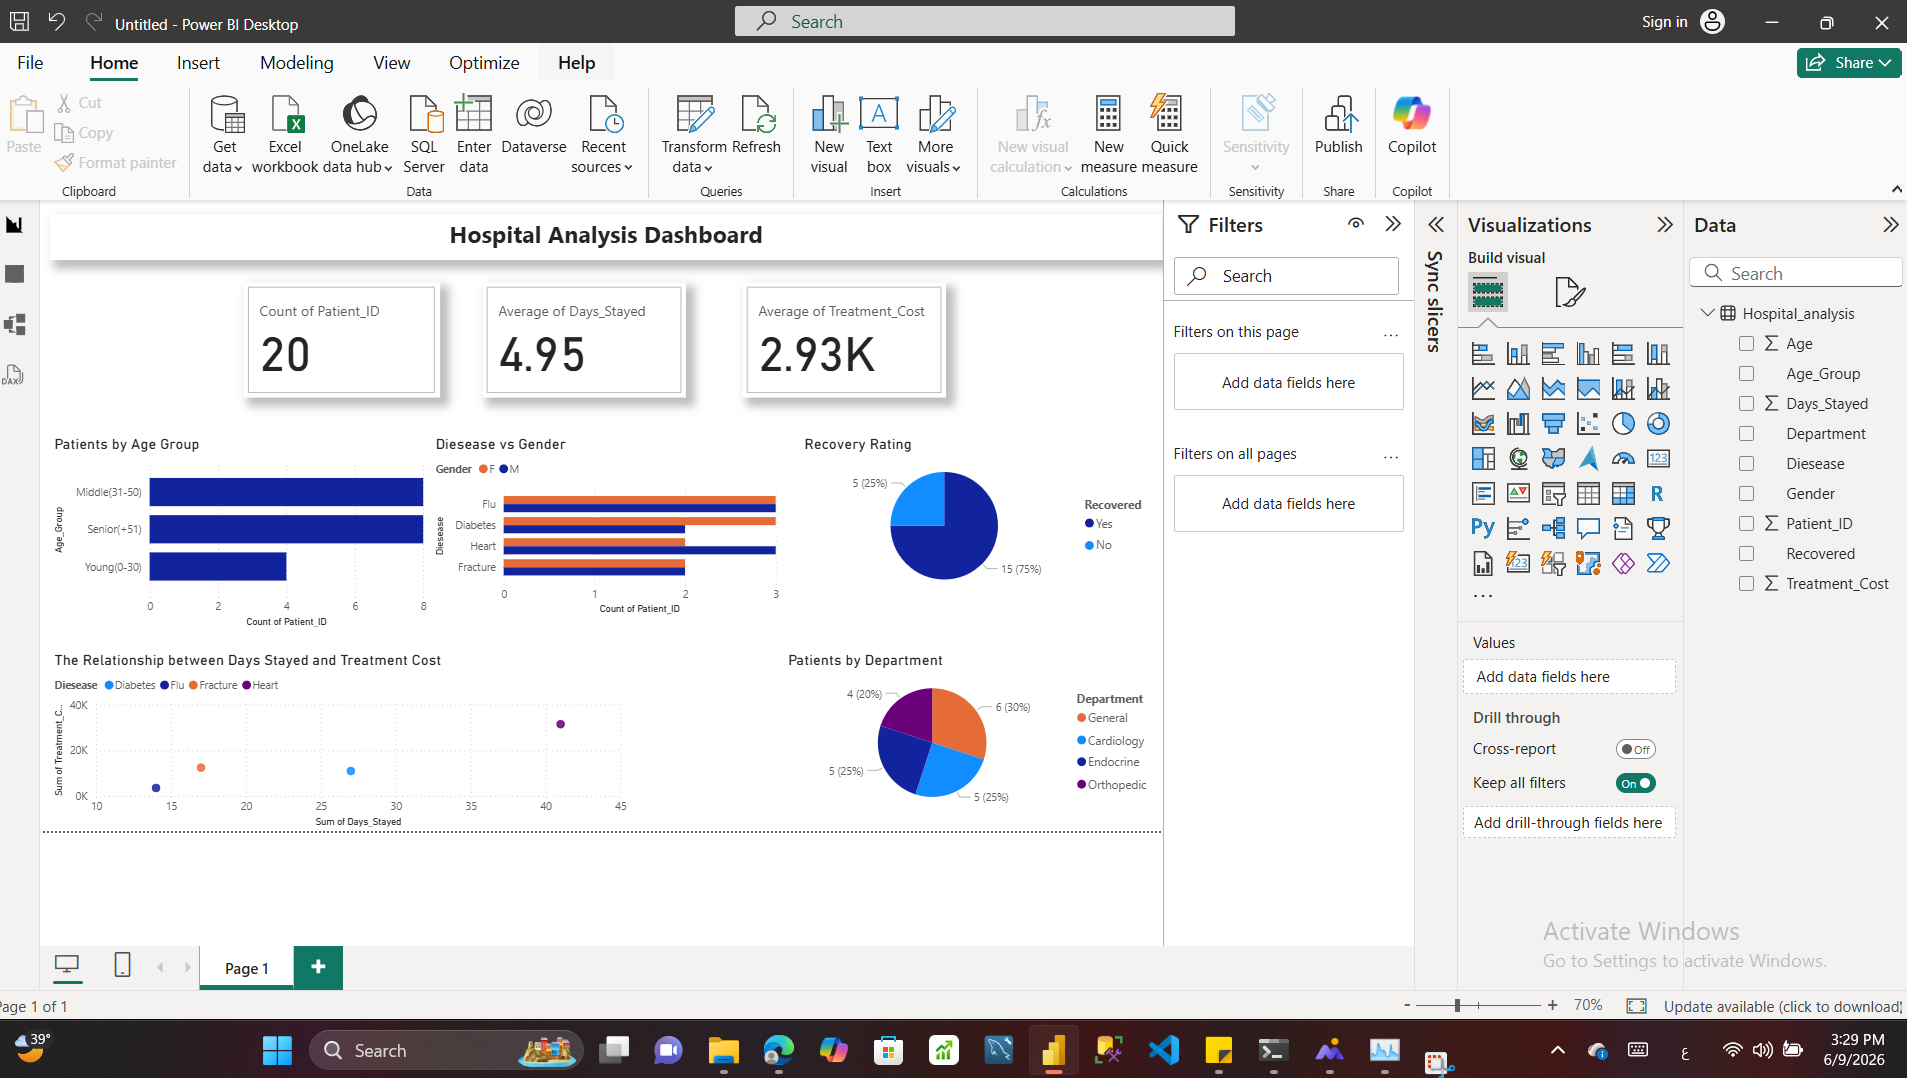

The dashboard page shown, as its layout file describes it:
{"tool":"powerbi","page":{"name":"Page 1","canvas":[1280,720],"ordinal":0},"visuals":[{"type":"cardVisual","fields":{"Data":["CountNonNull(Hospital_analysis.Patient_ID)"]},"box":[232.3,94.1,223.8,131.1],"z":0},{"type":"cardVisual","fields":{"Data":["Avg(Hospital_analysis.Days_Stayed)"]},"box":[504.6,94.1,232.3,131.1],"z":1},{"type":"cardVisual","fields":{"Data":["Avg(Hospital_analysis.Treatment_Cost)"]},"box":[801.1,94.1,232.3,131.1],"z":2},{"type":"clusteredBarChart","title":"Patients by Age Group","fields":{"Category":["Hospital_analysis.Age_Group"],"Y":["CountNonNull(Hospital_analysis.Patient_ID)"]},"box":[11.4,268,434.7,223.8],"z":4},{"type":"pieChart","title":"Recovery Rating","fields":{"Category":["Hospital_analysis.Recovered"],"Y":["CountNonNull(Hospital_analysis.Patient_ID)"]},"box":[866.6,268,413.4,188.2],"z":5},{"type":"clusteredBarChart","title":" Diesease vs Gender","fields":{"Category":["Hospital_analysis.Diesease"],"Y":["CountNonNull(Hospital_analysis.Patient_ID)"],"Series":["Hospital_analysis.Gender"]},"box":[446.1,268,402,209.5],"z":6},{"type":"pieChart","title":"Patients by Department","fields":{"Category":["Hospital_analysis.Department"],"Y":["CountNonNull(Hospital_analysis.Patient_ID)"]},"box":[848.1,514.6,431.9,189.6],"z":7},{"type":"textbox","box":[11.4,15.7,1268.6,52.7],"z":8},{"type":"scatterChart","title":"The Relationship between Days Stayed and  Treatment Cost","fields":{"X":["Sum(Hospital_analysis.Days_Stayed)"],"Y":["Sum(Hospital_analysis.Treatment_Cost)"],"Series":["Hospital_analysis.Diesease"]},"box":[11.4,514.6,662.8,205.3],"z":9}]}

Visuals, with their boxes on the page's 1280x720 design canvas (x1, y1, x2, y2). These are canvas units, not pixel positions in the 1907x1078 screenshot, which may show the page scaled, cropped or inside an application window:
cardVisual - CountNonNull(Hospital_analysis.Patient_ID): bbox=(232, 94, 456, 225)
cardVisual - Avg(Hospital_analysis.Days_Stayed): bbox=(505, 94, 737, 225)
cardVisual - Avg(Hospital_analysis.Treatment_Cost): bbox=(801, 94, 1033, 225)
"Patients by Age Group" clusteredBarChart: bbox=(11, 268, 446, 492)
"Recovery Rating" pieChart: bbox=(867, 268, 1280, 456)
" Diesease vs Gender" clusteredBarChart: bbox=(446, 268, 848, 478)
"Patients by Department" pieChart: bbox=(848, 515, 1280, 704)
textbox: bbox=(11, 16, 1280, 68)
"The Relationship between Days Stayed and  Treatment Cost" scatterChart: bbox=(11, 515, 674, 720)
